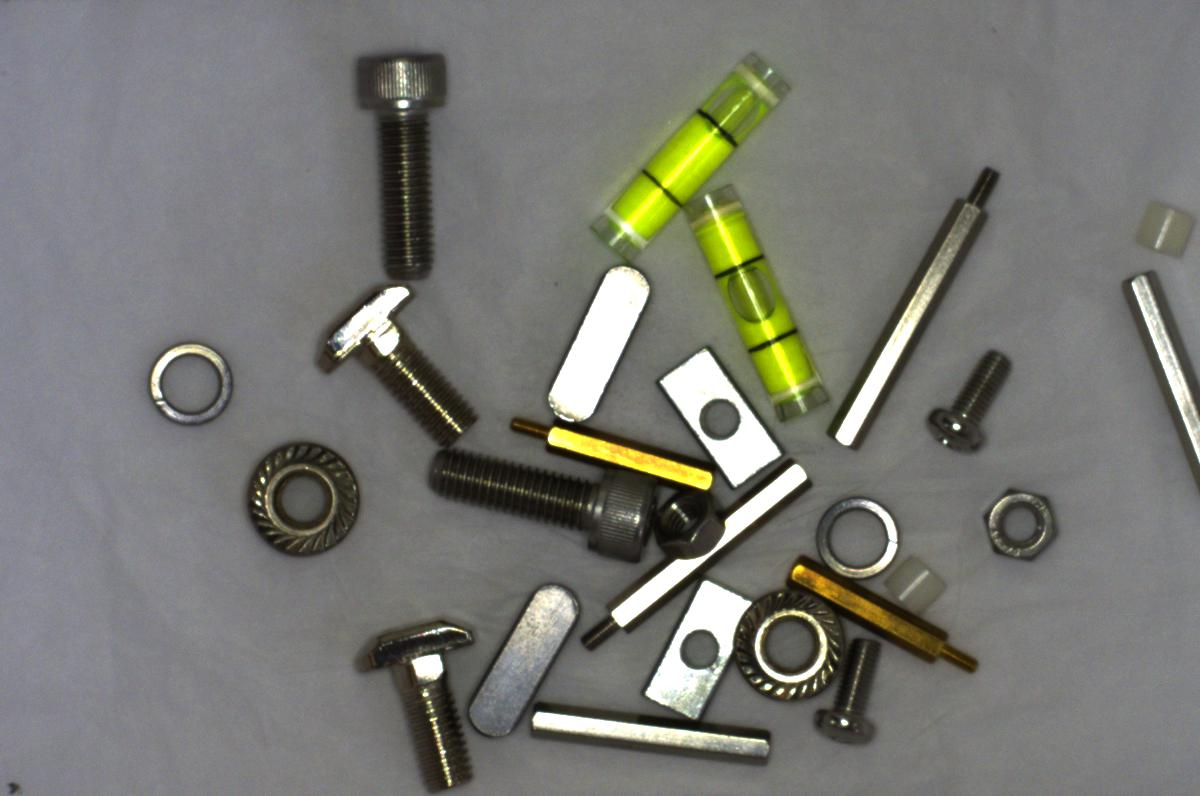Double hexagonal column: (1114, 260, 1199, 498), (525, 699, 776, 776)
Flange nut: (724, 578, 850, 714), (246, 435, 371, 569)
Hexagon nut: (979, 481, 1064, 567), (655, 483, 723, 563)
Hexagon pillar: (788, 556, 987, 681), (500, 404, 719, 500)
Hexagon screw: (412, 437, 655, 569), (348, 32, 474, 286)
Hexagonal steel column: (811, 163, 1020, 462), (567, 445, 815, 648)
Horizontal bubble: (589, 42, 788, 265), (670, 181, 833, 419)
Keybar: (541, 250, 662, 432), (464, 564, 579, 745)
Plastic cushion pillar: (876, 548, 953, 621), (1125, 185, 1198, 260)
Rectangular nut: (660, 342, 783, 489), (633, 577, 750, 721)
Round head screw: (911, 336, 1024, 459), (805, 636, 897, 751)
Spring washer: (138, 330, 241, 433), (806, 489, 902, 574)
T-shaped screw: (308, 274, 492, 449), (342, 608, 487, 795)
